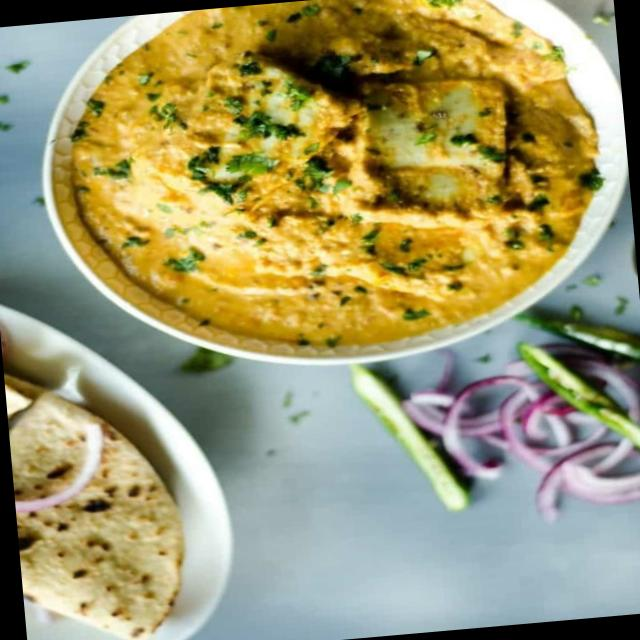ShahiPaneer: (56, 0, 610, 368)
